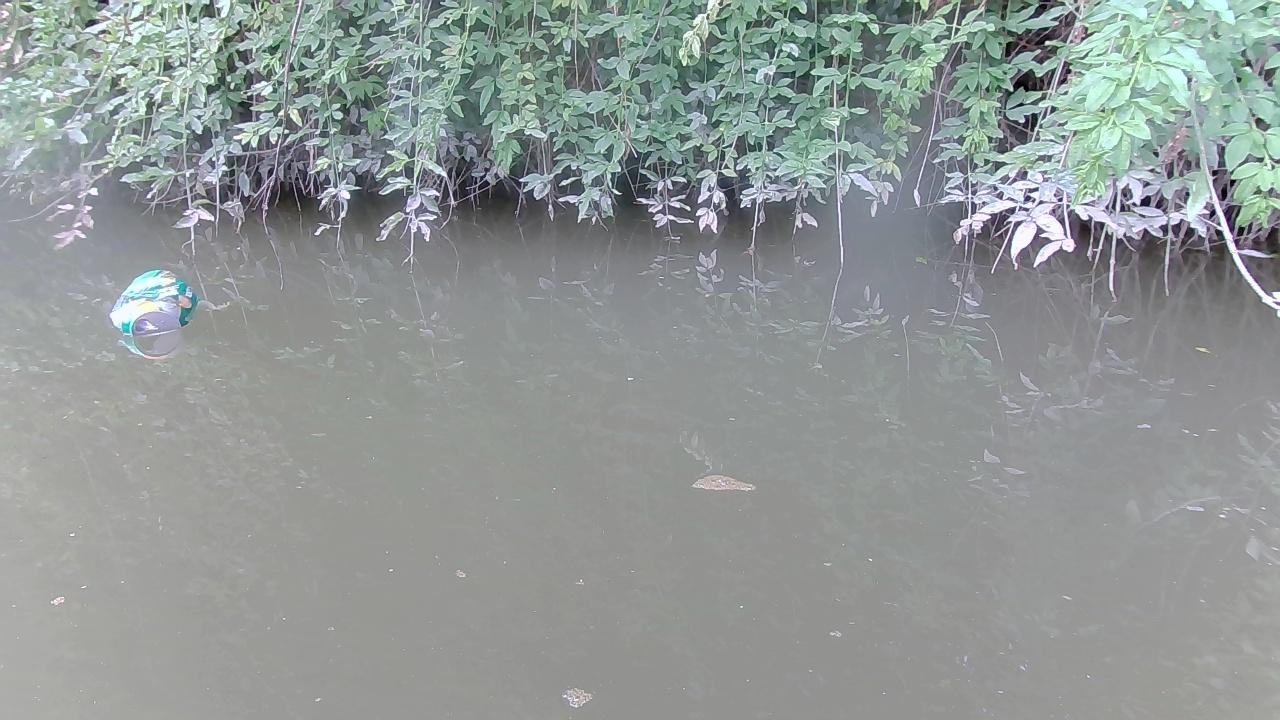bottle: (104, 266, 198, 359)
